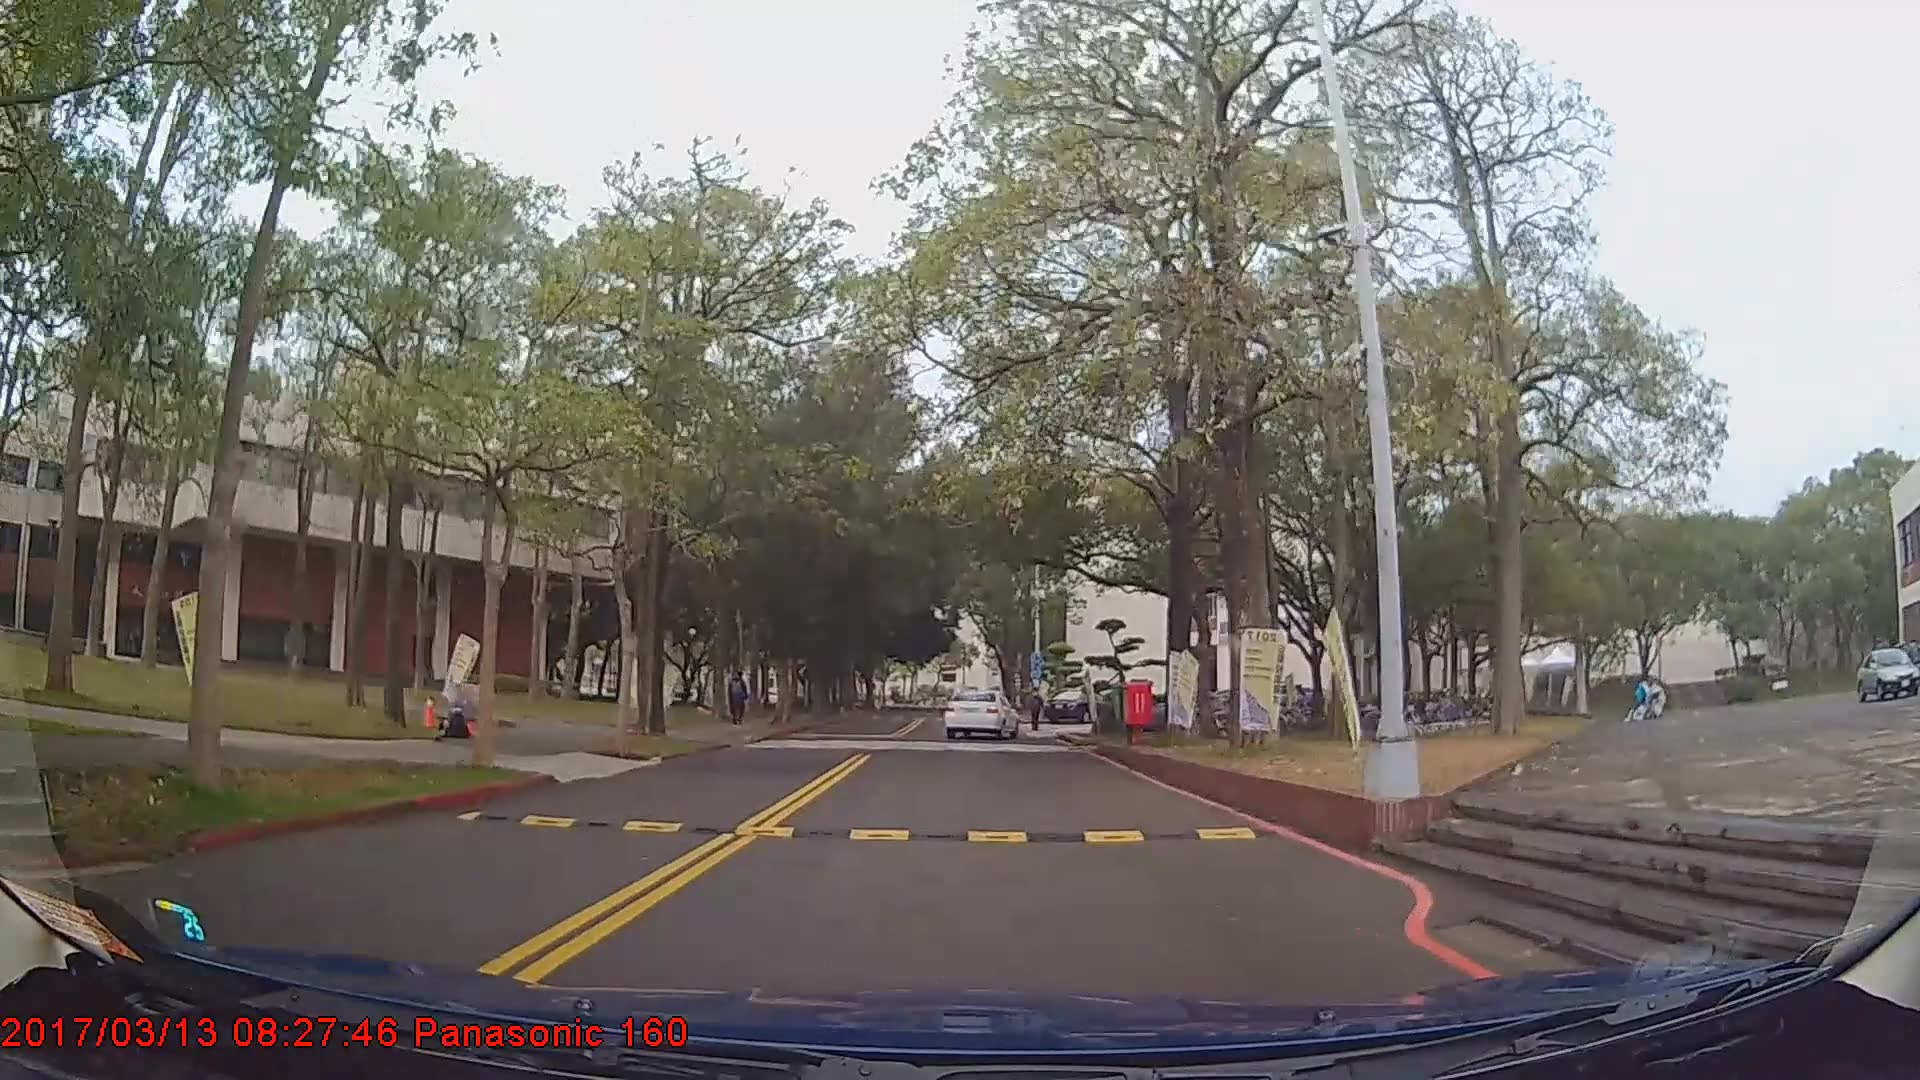pedestrian: (728, 672, 752, 727)
vehicle: (1851, 644, 1919, 706), (942, 687, 1018, 741), (1046, 685, 1102, 719)
